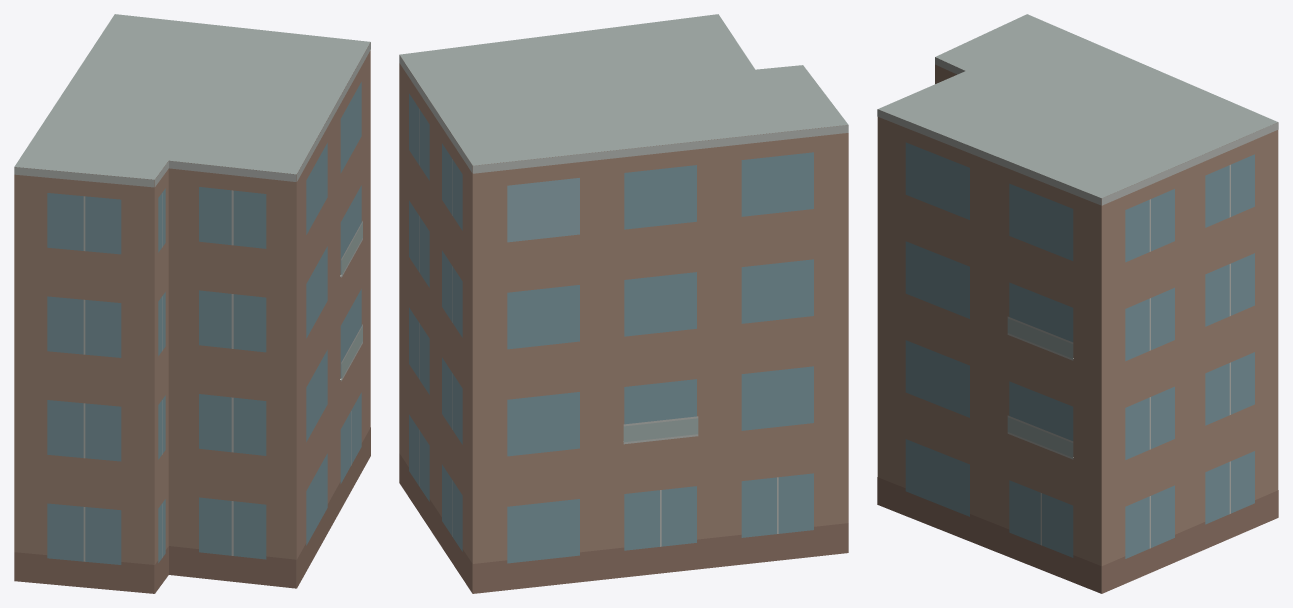
File: survey-upis-32730446.glb
3 renders of one model, left to right at view 1: azimuth 30°, elevation 25°; view 2: azimuth 150°, elevation 25°; view 3: azimuth 270°, elevation 25°, orthographic. The views are drawn at different scales.
Parts seen in each view (by area): view 1: survey-upis-32730446.tmp; view 2: survey-upis-32730446.tmp; view 3: survey-upis-32730446.tmp.
Boxes of the visible parts, x1,y1,x2,y2 form: survey-upis-32730446.tmp: [14, 14, 370, 593]; survey-upis-32730446.tmp: [399, 14, 848, 593]; survey-upis-32730446.tmp: [877, 14, 1278, 593].
Size of the model in its own units: 13 by 13 by 11.95.
